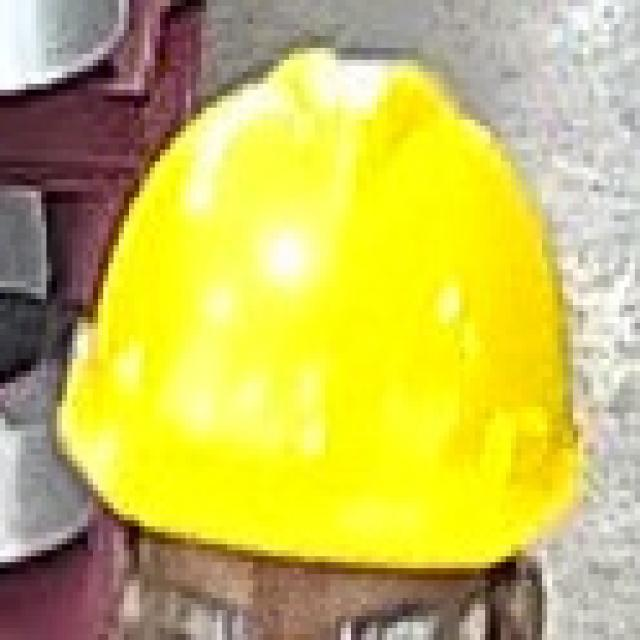yellow helmet: (49, 39, 586, 587)
